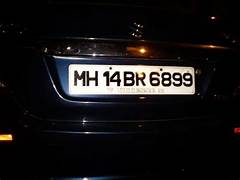number_plate: (69, 64, 195, 95)
